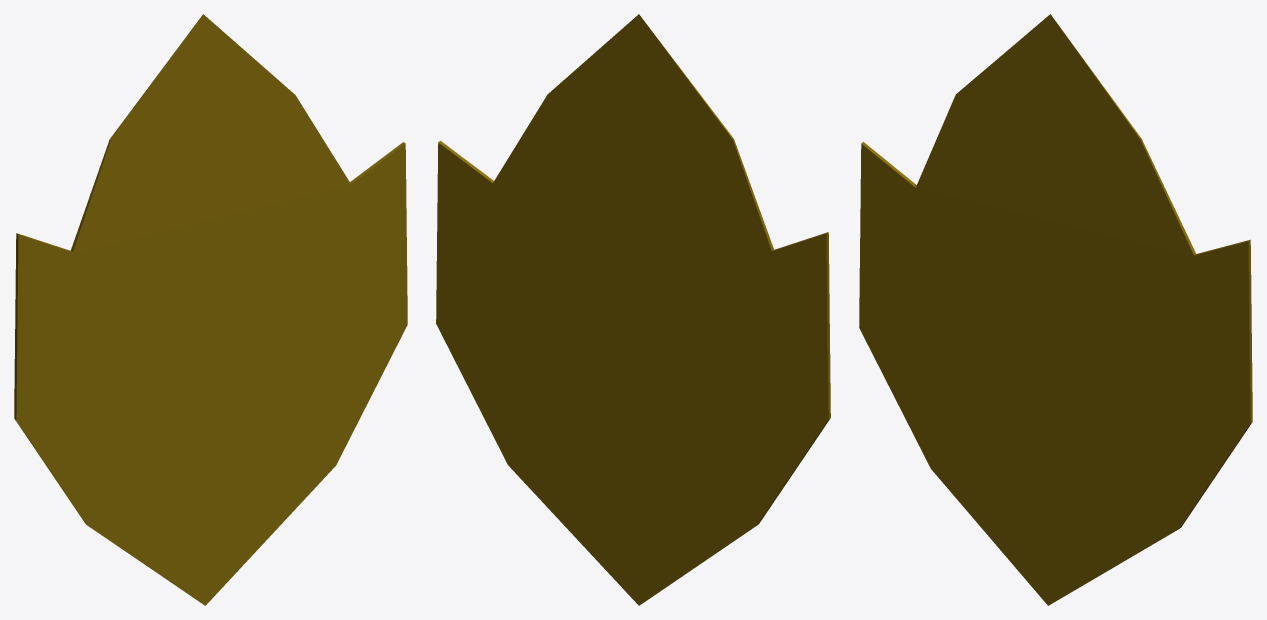
File: Leave_b_01.fbx
3 renders of one model, left to right at view 1: azimuth 30°, elevation 25°; view 2: azimuth 150°, elevation 25°; view 3: azimuth 330°, elevation 25°, orthographic.
Visible parts, largest first — view 1: Leave_b_01_LOD0; view 2: Leave_b_01_LOD0; view 3: Leave_b_01_LOD0.
Boxes of the visible parts, box(x1,y1,x2,y2) form: Leave_b_01_LOD0: box(14, 14, 407, 605); Leave_b_01_LOD0: box(436, 14, 830, 605); Leave_b_01_LOD0: box(859, 14, 1252, 605).
Size of what is drawn, in the model's own units: 2.62 by 3.78 by 0.0263.
